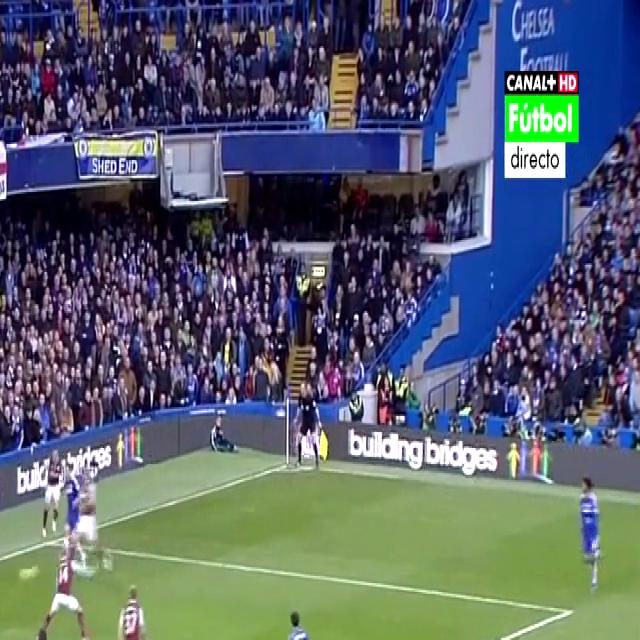ball: (19, 560, 36, 592)
referee: (294, 379, 325, 476)
soccer-player: (42, 535, 91, 640), (572, 463, 609, 602), (76, 466, 108, 584), (111, 572, 153, 640), (42, 437, 68, 538), (277, 592, 324, 640), (18, 618, 57, 640)
